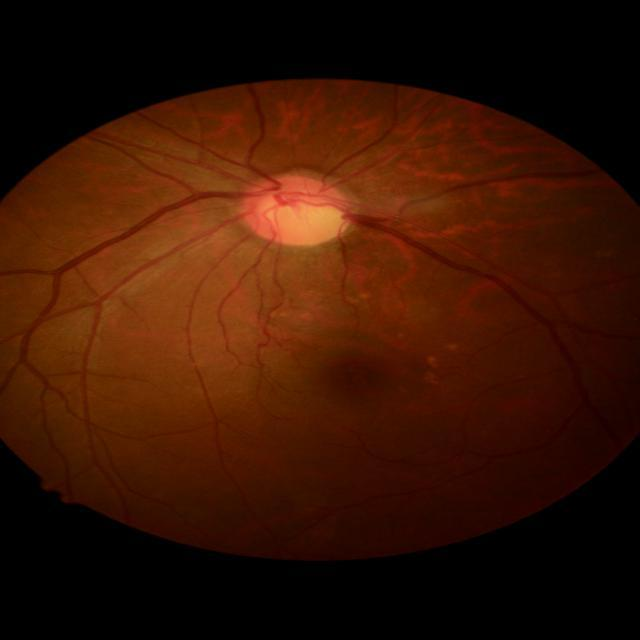cup: (259, 199, 343, 233)
disk: (238, 174, 352, 247)
